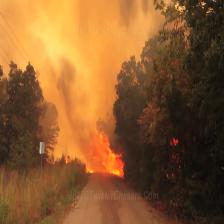fire: (48, 113, 134, 184)
smoke: (2, 0, 188, 103)
